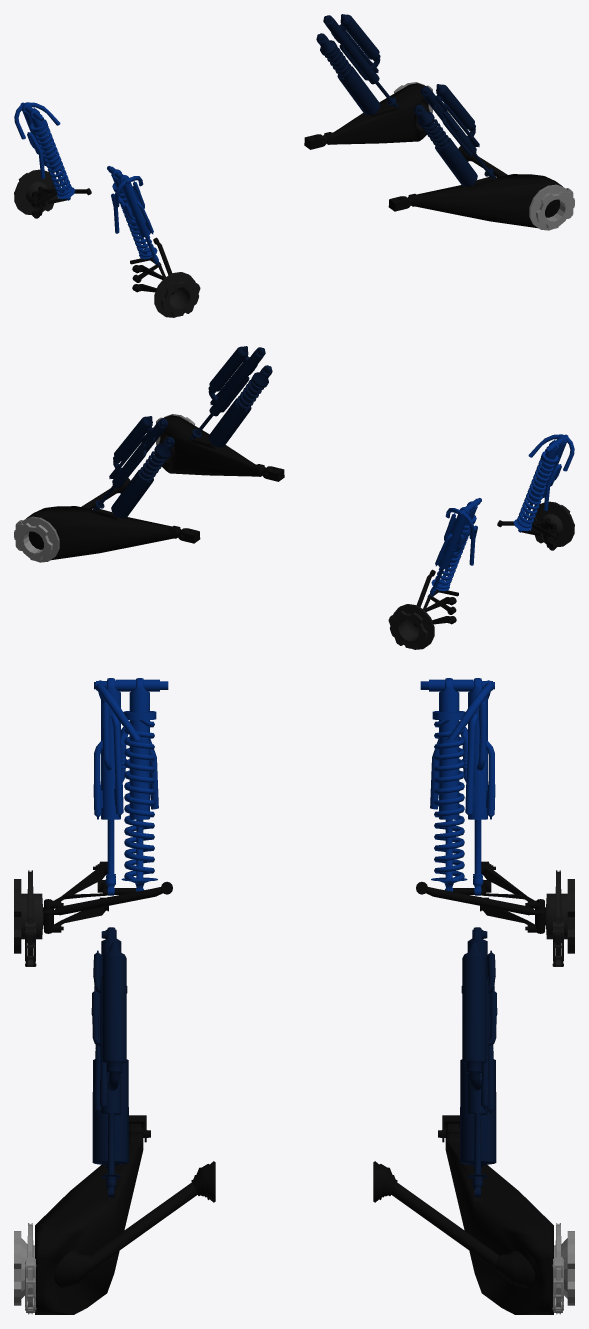
Rendered from Suspension.obj.
The picture shows the model from 3 angles, top to bottom: view 1: azimuth 30°, elevation 25°; view 2: azimuth 150°, elevation 25°; view 3: azimuth 270°, elevation 25°; orthographic projection. The views are drawn at different scales.
Visible parts, largest first — view 1: initialShadingGroup Rear_Axles, initialShadingGroup Rear_Suspension, initialShadingGroup Front_Suspension, initialShadingGroup Front_Brakes, initialShadingGroup Rear_Brakes, initialShadingGroup Front_Axles; view 2: initialShadingGroup Rear_Axles, initialShadingGroup Rear_Suspension, initialShadingGroup Front_Suspension, initialShadingGroup Front_Brakes, initialShadingGroup Rear_Brakes, initialShadingGroup Front_Axles; view 3: initialShadingGroup Rear_Axles, initialShadingGroup Front_Suspension, initialShadingGroup Rear_Suspension, initialShadingGroup Front_Axles, initialShadingGroup Front_Brakes, initialShadingGroup Rear_Brakes.
Part boxes in pixels (<box>): initialShadingGroup Rear_Axles: <box>304,83,562,228</box>; initialShadingGroup Rear_Suspension: <box>316,14,495,186</box>; initialShadingGroup Front_Suspension: <box>14,102,159,265</box>; initialShadingGroup Front_Brakes: <box>14,169,200,317</box>; initialShadingGroup Rear_Brakes: <box>394,82,574,230</box>; initialShadingGroup Front_Axles: <box>31,186,174,294</box>; initialShadingGroup Rear_Axles: <box>26,415,284,560</box>; initialShadingGroup Rear_Suspension: <box>93,346,272,518</box>; initialShadingGroup Front_Suspension: <box>429,434,574,597</box>; initialShadingGroup Front_Brakes: <box>388,501,574,649</box>; initialShadingGroup Rear_Brakes: <box>14,414,194,562</box>; initialShadingGroup Front_Axles: <box>414,518,557,626</box>; initialShadingGroup Rear_Axles: <box>35,1115,553,1314</box>; initialShadingGroup Front_Suspension: <box>93,678,495,895</box>; initialShadingGroup Rear_Suspension: <box>91,927,497,1197</box>; initialShadingGroup Front_Axles: <box>43,861,545,933</box>; initialShadingGroup Front_Brakes: <box>14,870,574,966</box>; initialShadingGroup Rear_Brakes: <box>14,1223,574,1314</box>.
Bounding box in the file's own units: 20.86 × 6.92 × 12.26.
